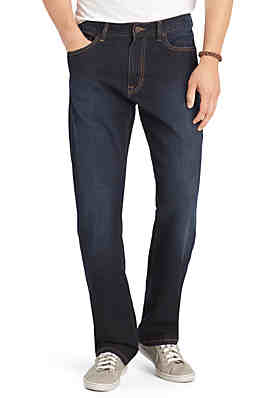Jeans: (55, 19, 209, 353)
